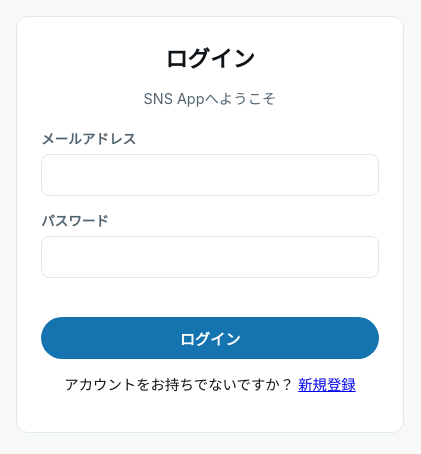
Scenario: LoginPage › shows the API error message when login fails
Type "alice@example.com" into the field labelled "メールアドレス". click: point(210, 175)
box: x1=41 y1=154 x2=379 y2=196
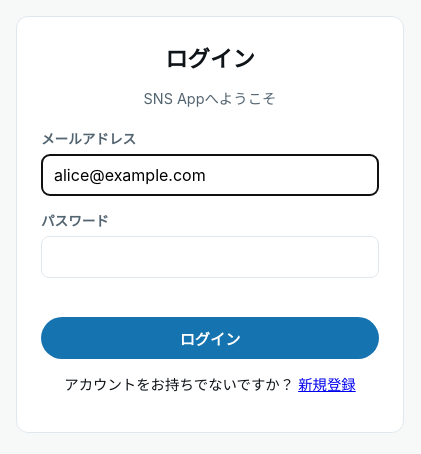
Type "wrongpass" into the password field labelled "パスワード". click: point(210, 257)
box: x1=41 y1=236 x2=379 y2=278
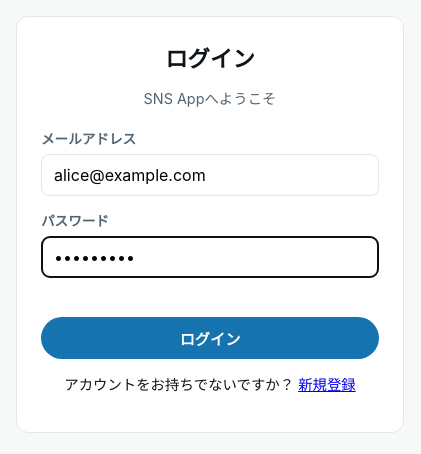
Click the button "ログイン". click: point(210, 338)
box: x1=41 y1=317 x2=379 y2=359
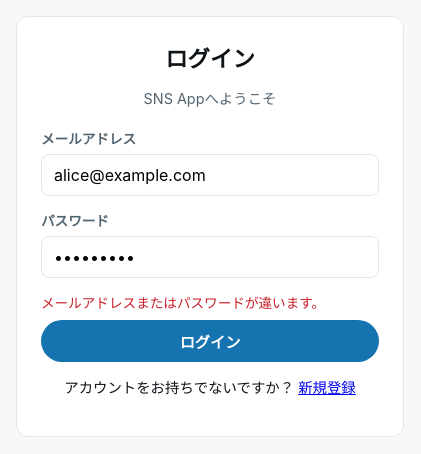
Now the text "メールアドレスまたはパスワードが違います。" is shown, box x1=41 y1=295 x2=325 y2=311
